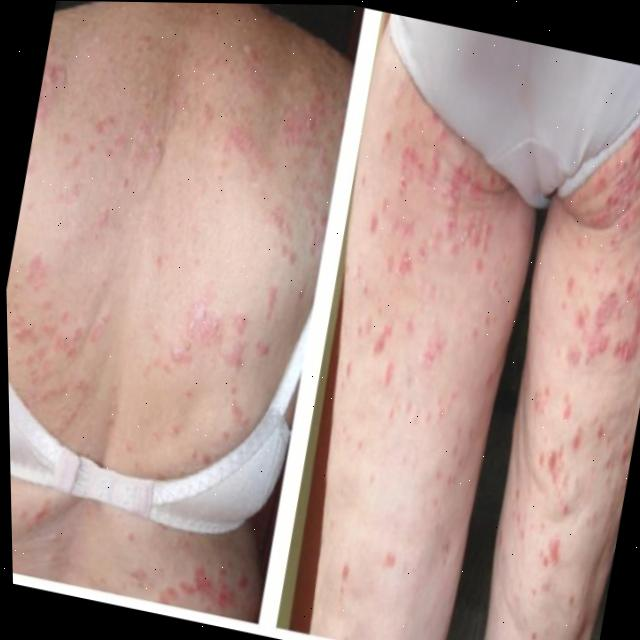Rosacea: (0, 0, 367, 498), (303, 73, 536, 640), (472, 53, 640, 640), (109, 523, 263, 632), (10, 463, 70, 583)
